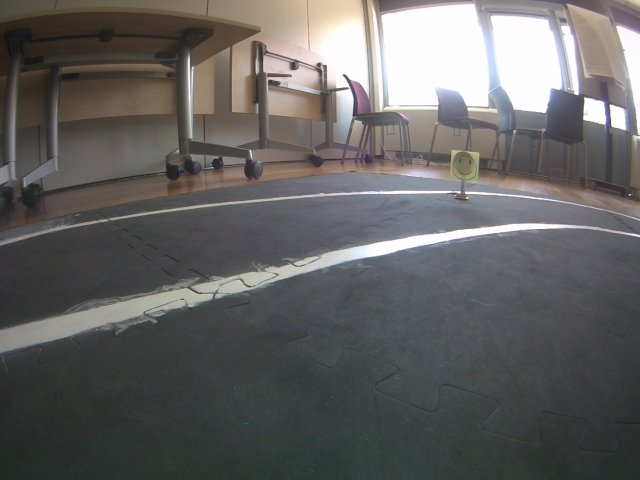Smiley: (448, 149, 482, 185)
